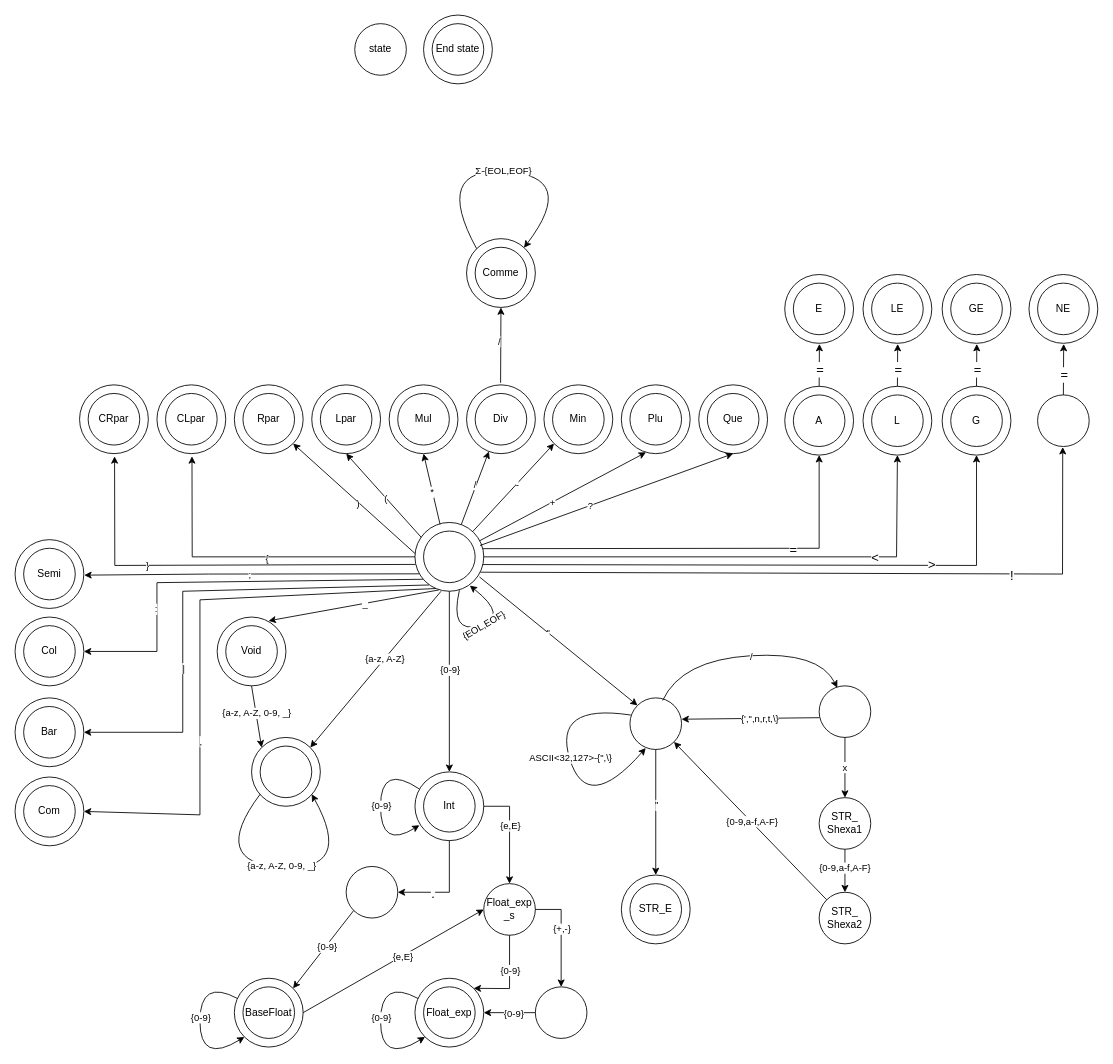
Some shapes in this 1113 by 1064 pixel diagram are drawn without their labels. Here are the shapes that lost their labels. From the top down, the centre of each, then its label:
point 1063,420: NOT
point 449,556: Start
point 655,723: STR_S
point 844,711: STR_ Slash
point 285,771: Id/Key
point 371,892: Dot_Flo
point 560,1012: IFloat_Exp _PM
